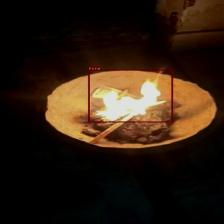fire: (88, 69, 173, 122)
